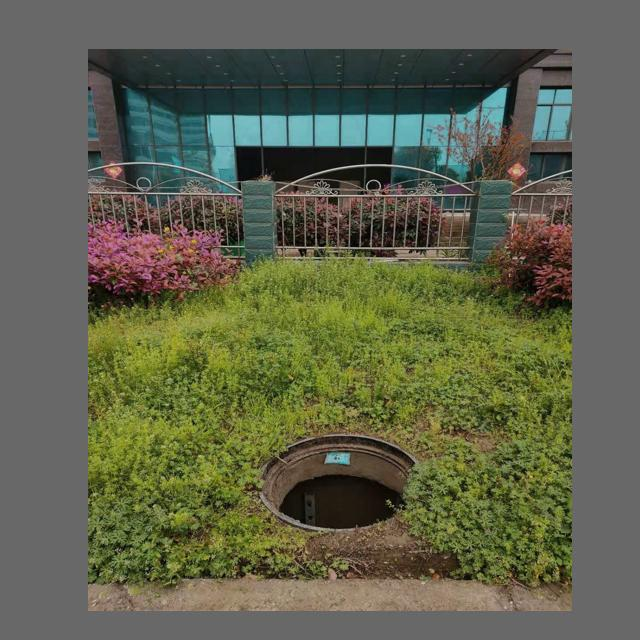lose: (258, 431, 427, 532)
